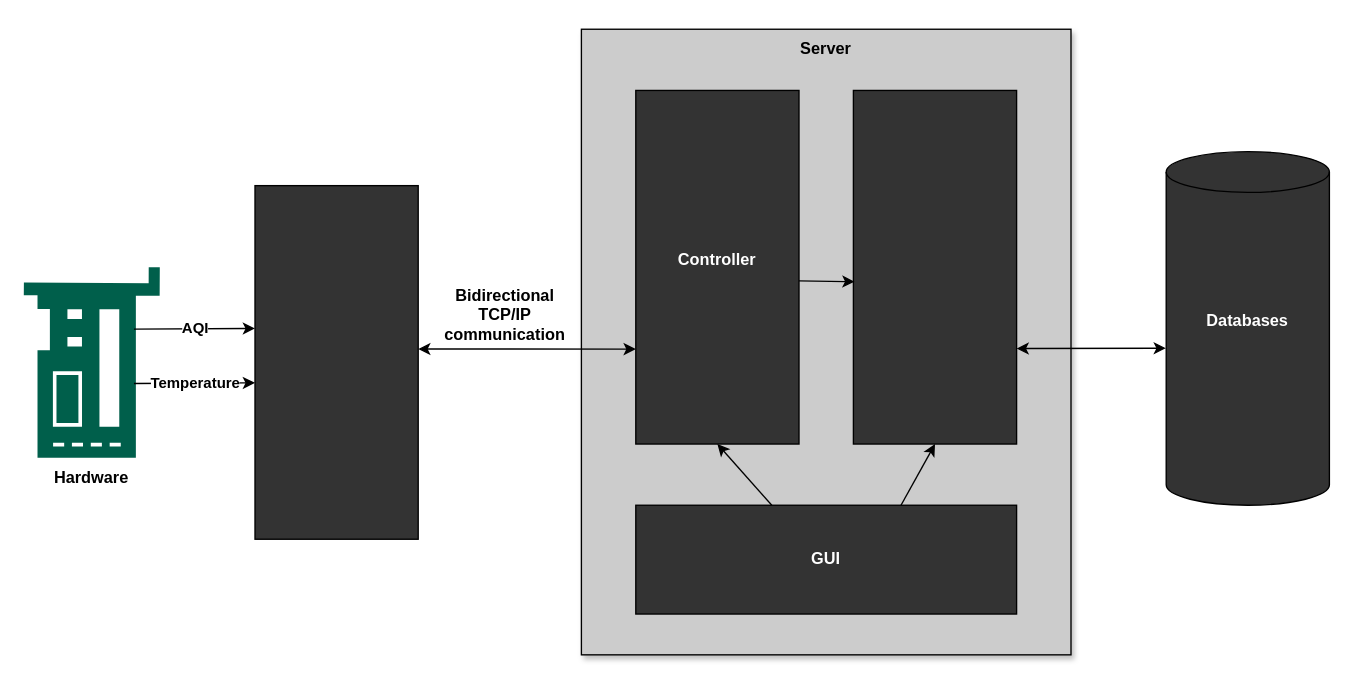
Some shapes in this 1353 by 688 pixel diagram are drawn without their labels. The shapes that lost their labels are listed below. From the top down, each one's centre as x and y in pixels, then its label:
(x=934, y=266): Database Manager
(x=336, y=361): Client
